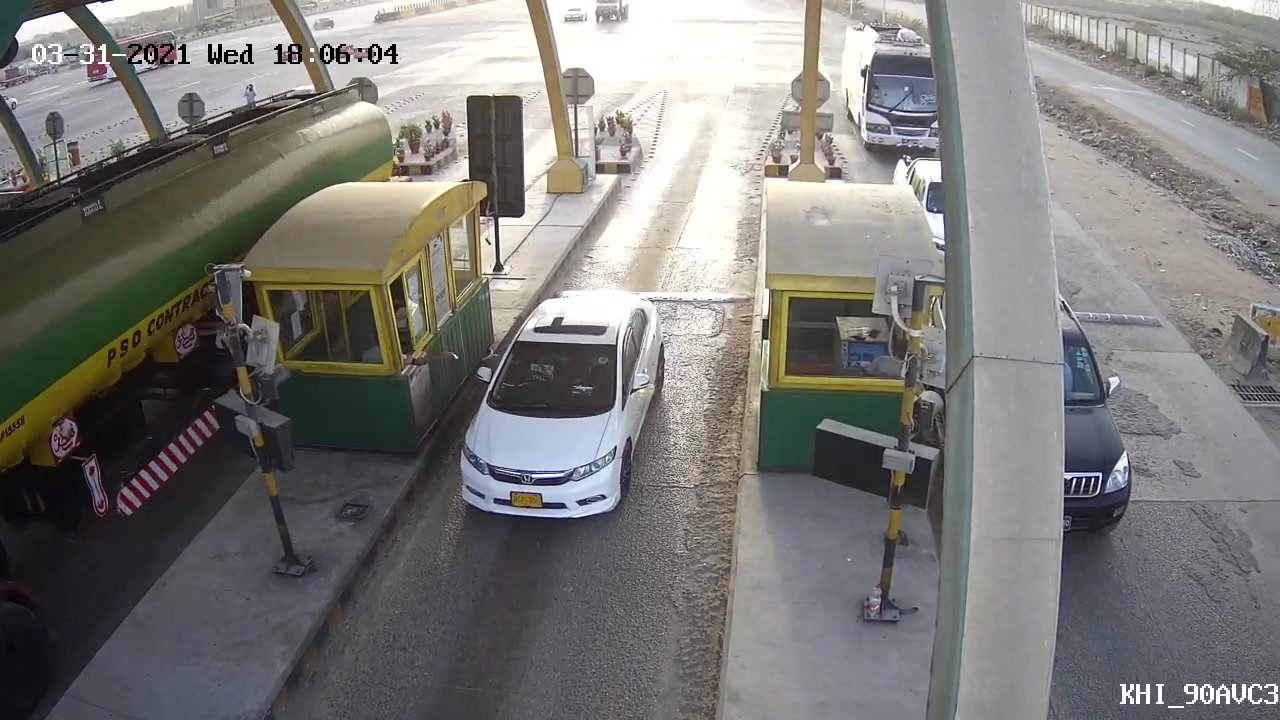F1: (453, 285, 670, 520)
